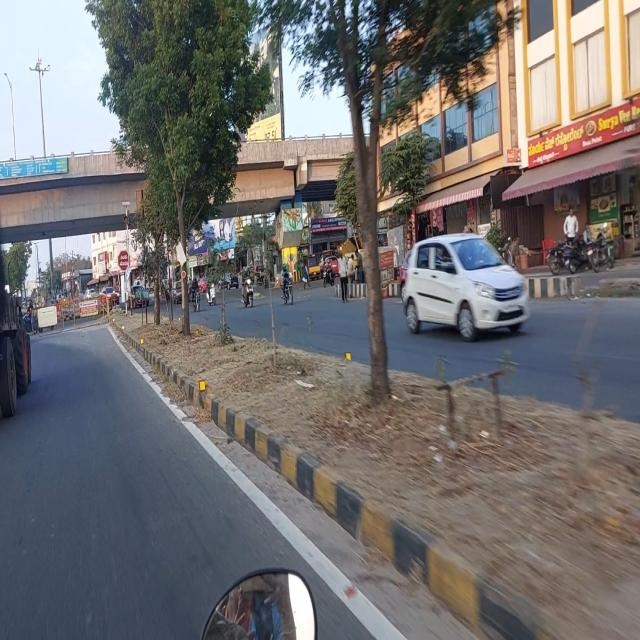bien_chi_dan: (118, 248, 129, 271)
